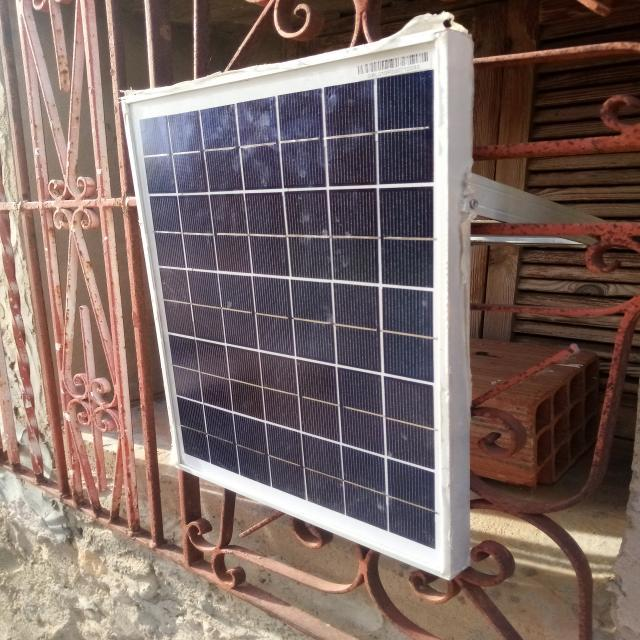no faulty: (123, 38, 449, 575)
